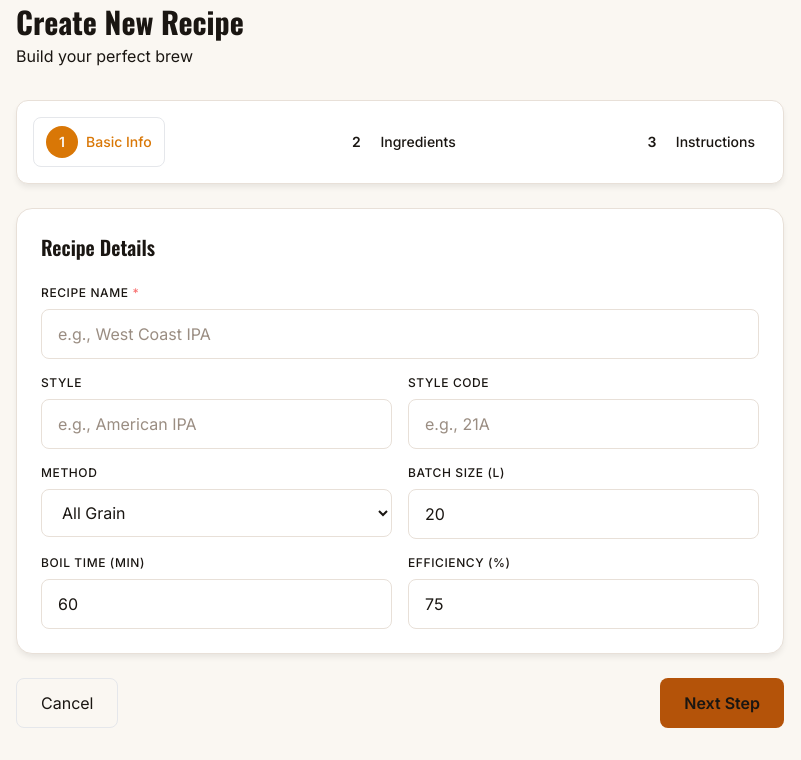
Test case: RecipeForm Page › Dynamic Ingredients › removes a grain row when clicking remove
(page scrolled)
What coordinates should you click on to do the following:
click the button "Next Step"
I would click on:
 (722, 703)
Its box is [660,678,784,728].
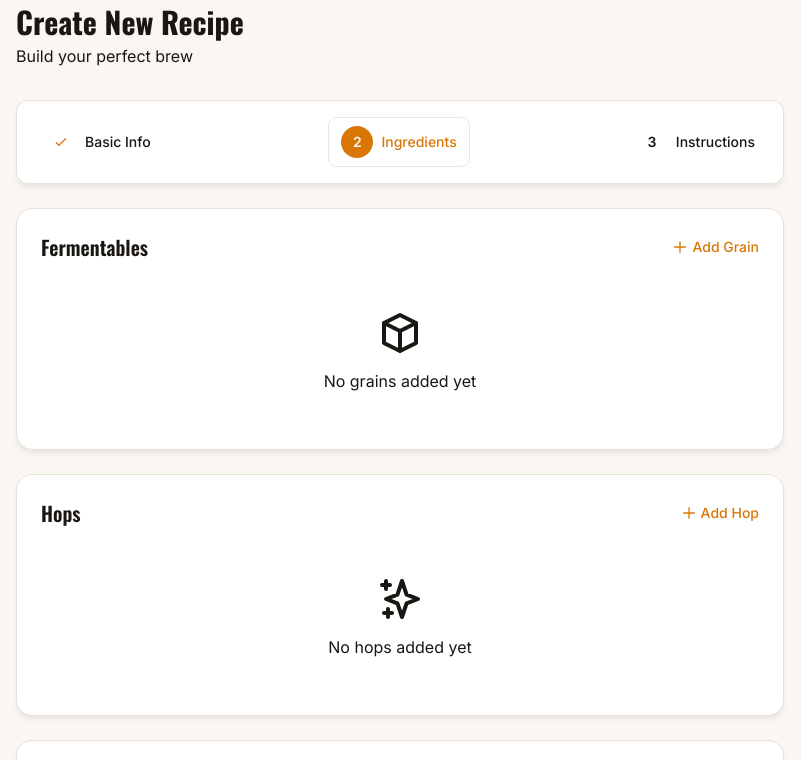
What coordinates should you click on to do the following:
click the button "Add Grain"
I would click on:
 (716, 247)
Its box is [672,237,759,257].
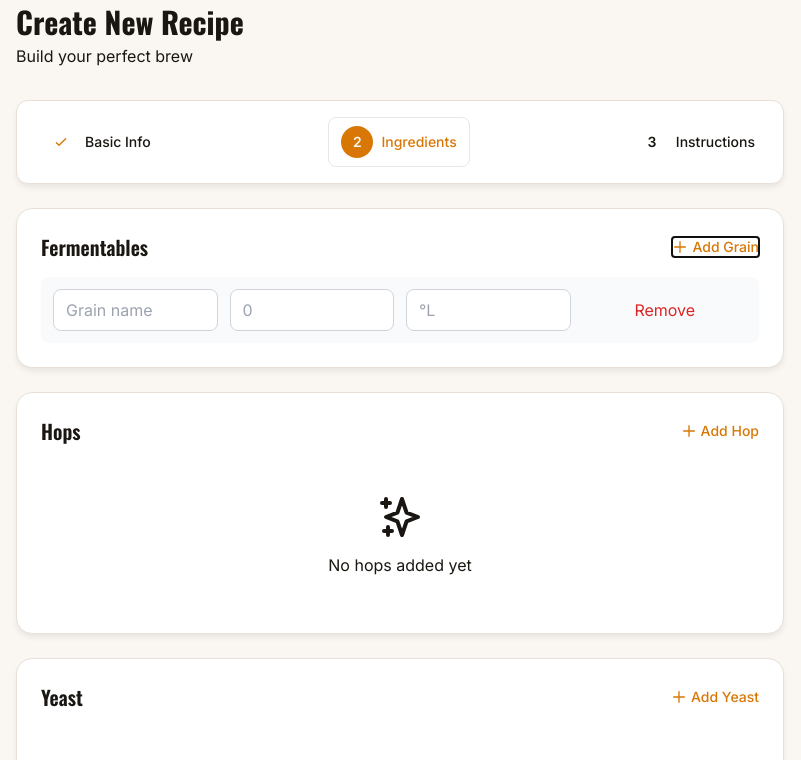
What coordinates should you click on to do the following:
click the button "Remove"
I would click on:
 (665, 310)
Its box is [582,289,747,331].
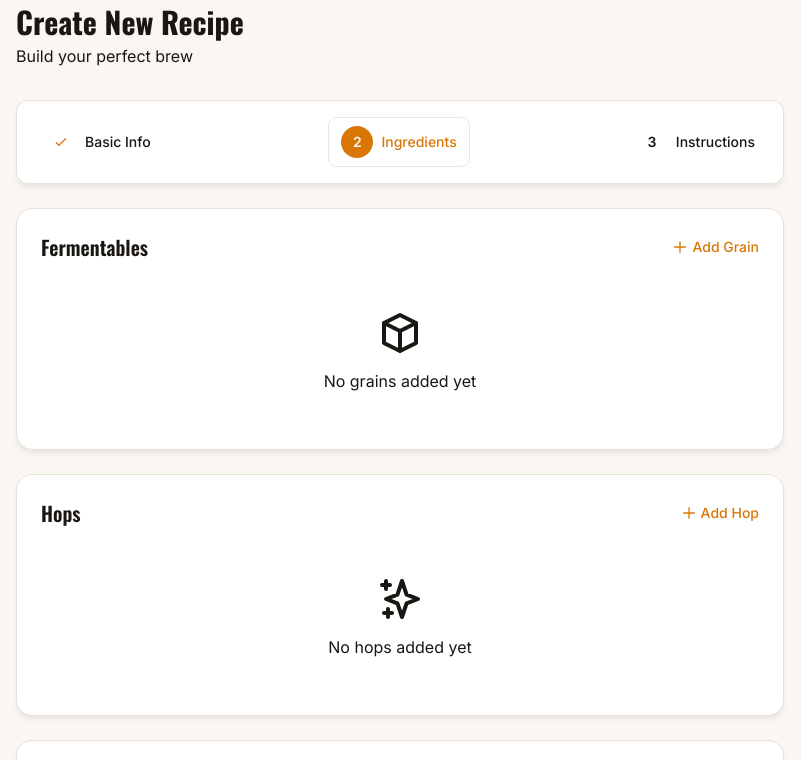
Now the text "No grains added yet" is shown, box [324,371,476,391]
